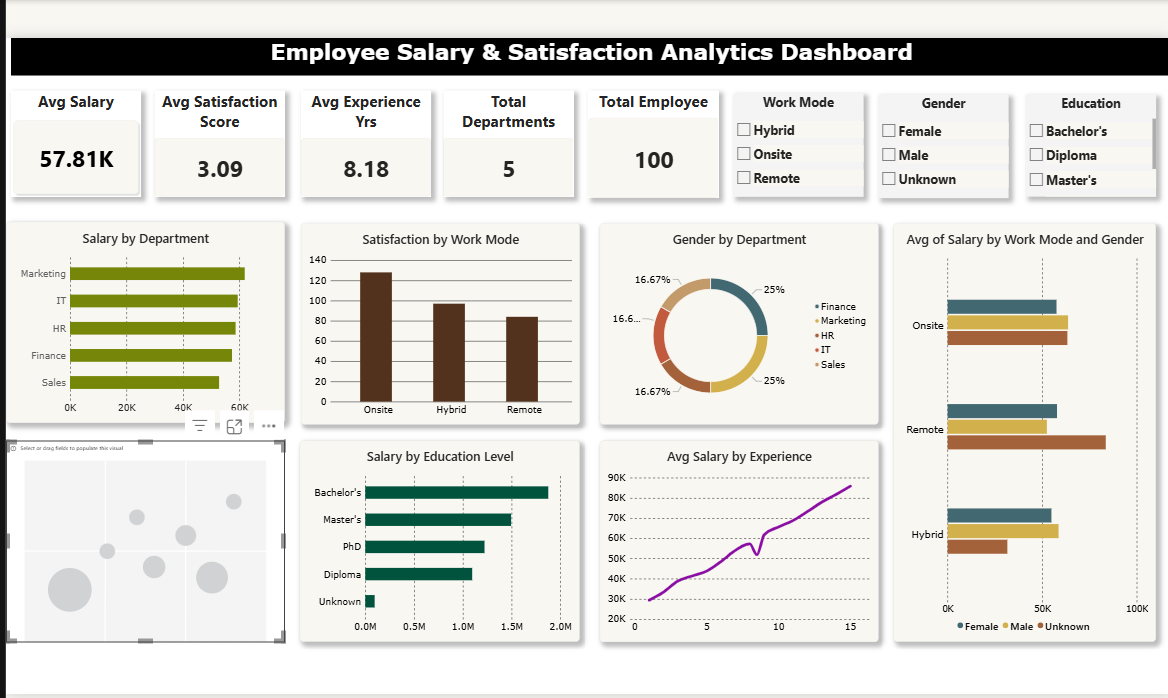

The page's visual inventory and layout, read from the dashboard file:
{"tool":"powerbi","page":{"name":"Page 1","canvas":[2560,1440],"ordinal":0},"visuals":[{"type":"textbox","box":[11,0,2549.6,82.3],"z":0},{"type":"cardVisual","title":"Avg Salary","fields":{"Data":["Avg(employee_cleaned.salary)"]},"box":[11,115.3,285.4,233.3],"z":1000},{"type":"cardVisual","title":"Avg Satisfaction Score","fields":{"Data":["Avg(employee_cleaned.satisfaction_score)"]},"box":[326.6,115.3,285.4,233.3],"z":2000},{"type":"cardVisual","title":"Avg Experience Yrs","fields":{"Data":["Avg(employee_cleaned.experience_years)"]},"box":[647.7,115.3,285.4,233.3],"z":3000},{"type":"cardVisual","title":"Total Departments","fields":{"Data":["Count(employee_cleaned.department)"]},"box":[960.6,115.3,285.4,233.3],"z":4000},{"type":"cardVisual","title":"Total Employee","fields":{"Data":["Count(employee_cleaned.employee_id)"]},"box":[1278.9,115.3,285.4,236],"z":5000},{"type":"slicer","title":"Work Mode","fields":{"Values":["employee_cleaned.work_mode"]},"box":[1597.3,120.8,285.4,227.8],"z":6000},{"type":"slicer","title":"Gender","fields":{"Values":["employee_cleaned.gender"]},"box":[1915.6,123.5,285.4,227.8],"z":7000},{"type":"slicer","title":"Education","fields":{"Values":["employee_cleaned.education_level"]},"box":[2239.5,123.5,285.4,225],"z":8000},{"type":"barChart","title":"Salary by Department","fields":{"Category":["employee_cleaned.department"],"Y":["Avg(employee_cleaned.salary)"]},"box":[0,403.4,612,441.9],"z":9000},{"type":"clusteredColumnChart","title":"Satisfaction by Work Mode","fields":{"Category":["employee_cleaned.work_mode"],"Y":["Sum(employee_cleaned.satisfaction_score)"]},"box":[647.7,406.2,612,442],"z":10000},{"type":"barChart","title":"Salary by Education Level","fields":{"Category":["employee_cleaned.education_level"],"Y":["Sum(employee_cleaned.salary)"]},"box":[644.9,883.7,614.8,441.9],"z":12000},{"type":"clusteredBarChart","title":"Avg of Salary by Work Mode and Gender","fields":{"Category":["employee_cleaned.work_mode"],"Series":["employee_cleaned.gender"],"Y":["Avg(employee_cleaned.salary)"]},"box":[1948.5,406.2,576.3,919.4],"z":13000},{"type":"donutChart","title":"Gender by Department","fields":{"Category":["employee_cleaned.department"],"Y":["Count(employee_cleaned.gender)"]},"box":[1303.6,406.2,612,442],"z":14000},{"type":"lineChart","title":"Avg Salary by Experience","fields":{"Category":["employee_cleaned.experience_years"],"Y":["Avg(employee_cleaned.salary)"]},"box":[1304,884,612,442],"z":15000},{"type":"clusteredColumnChart","title":"Emp ID & Satisfaction Score","fields":{"Category":["employee_cleaned.satisfaction_score"],"Y":["Count(employee_cleaned.employee_id)"]},"box":[0,884,612,442],"z":15001}]}

Visuals, with their boxes in screenshot pixels (x1, y1, x2, y2):
textbox: [5, 33, 1167, 72]
"Avg Salary" cardVisual: [5, 87, 138, 196]
"Avg Satisfaction Score" cardVisual: [152, 87, 285, 196]
"Avg Experience Yrs" cardVisual: [302, 87, 435, 196]
"Total Departments" cardVisual: [448, 87, 581, 196]
"Total Employee" cardVisual: [597, 87, 730, 197]
"Work Mode" slicer: [745, 90, 878, 196]
"Gender" slicer: [894, 91, 1027, 197]
"Education" slicer: [1045, 91, 1167, 196]
"Salary by Department" barChart: [0, 222, 285, 428]
"Satisfaction by Work Mode" clusteredColumnChart: [302, 223, 588, 429]
"Salary by Education Level" barChart: [301, 446, 588, 652]
"Avg of Salary by Work Mode and Gender" clusteredBarChart: [909, 223, 1167, 652]
"Gender by Department" donutChart: [608, 223, 894, 429]
"Avg Salary by Experience" lineChart: [608, 446, 894, 652]
"Emp ID & Satisfaction Score" clusteredColumnChart: [0, 446, 285, 652]
